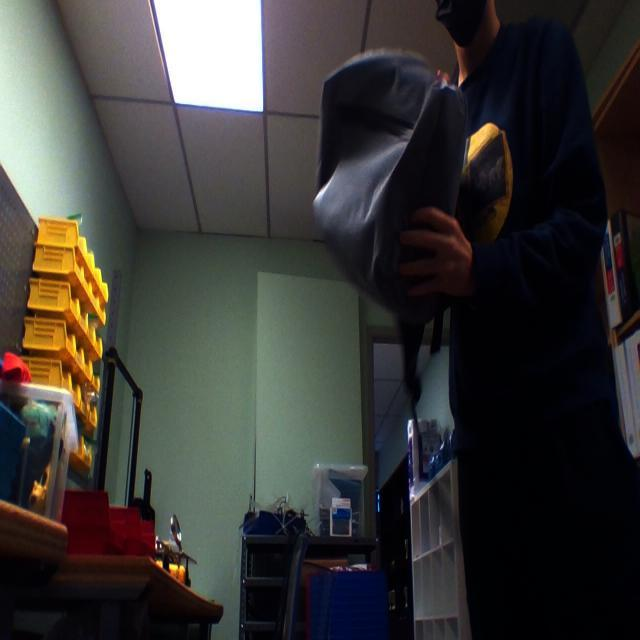Backpacks: (314, 52, 475, 313)
